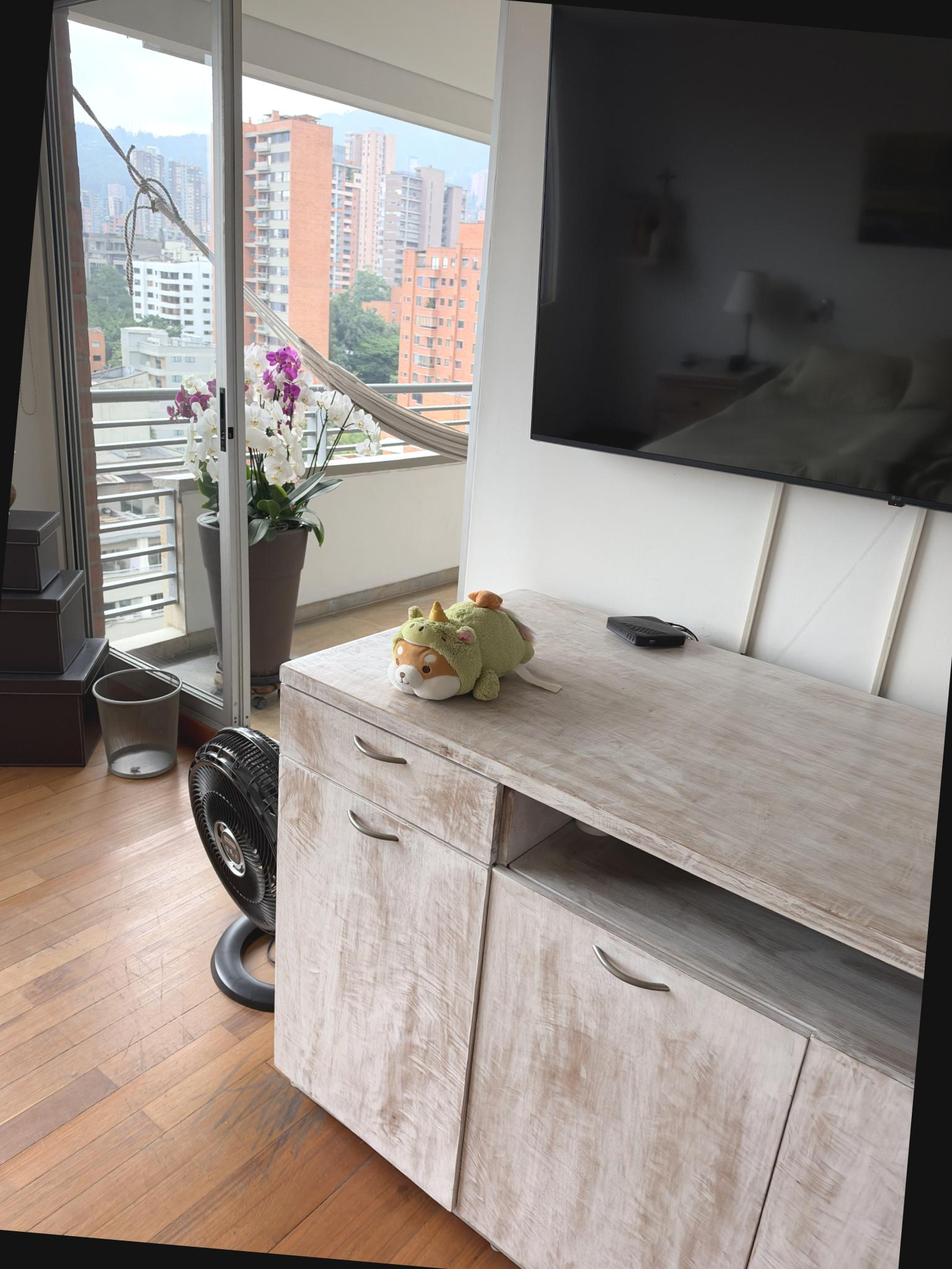peluche_martin: (384, 581, 540, 709)
